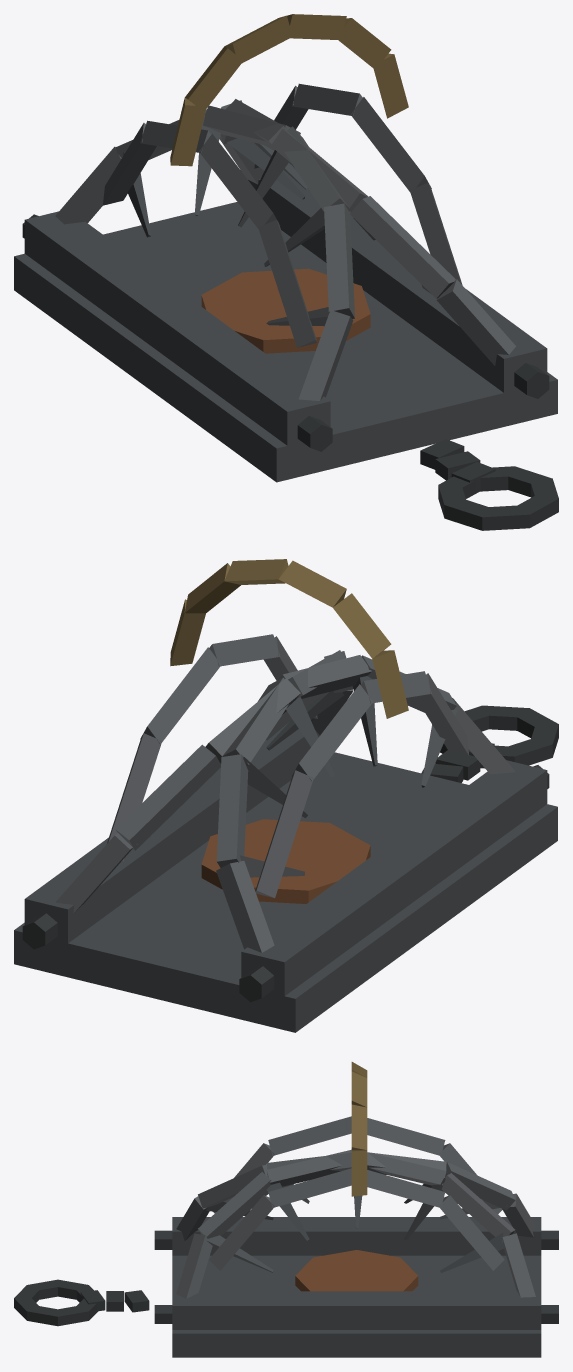
File: trap_bear_item.glb
The picture shows the model from 3 angles, top to bottom: view 1: azimuth 30°, elevation 25°; view 2: azimuth 150°, elevation 25°; view 3: azimuth 270°, elevation 25°; orthographic projection. The views are drawn at different scales.
Parts seen in each view (by area): view 1: Base, JawL, JawR, Pan; view 2: Base, JawL, JawR, Pan; view 3: Base, JawR, JawL, Pan.
Boxes of the visible parts, bbox=[...] form: Base: bbox=[14, 14, 558, 530]; JawL: bbox=[55, 105, 354, 400]; JawR: bbox=[219, 99, 515, 365]; Pan: bbox=[201, 268, 370, 353]; Base: bbox=[14, 559, 558, 1032]; JawL: bbox=[216, 655, 515, 952]; JawR: bbox=[55, 650, 353, 913]; Pan: bbox=[201, 819, 370, 903]; Base: bbox=[14, 1062, 558, 1357]; JawR: bbox=[176, 1149, 535, 1298]; JawL: bbox=[176, 1152, 535, 1240]; Pan: bbox=[295, 1250, 418, 1291].
Bounding box in the file's own units: 0.26 × 0.3 × 0.62.
